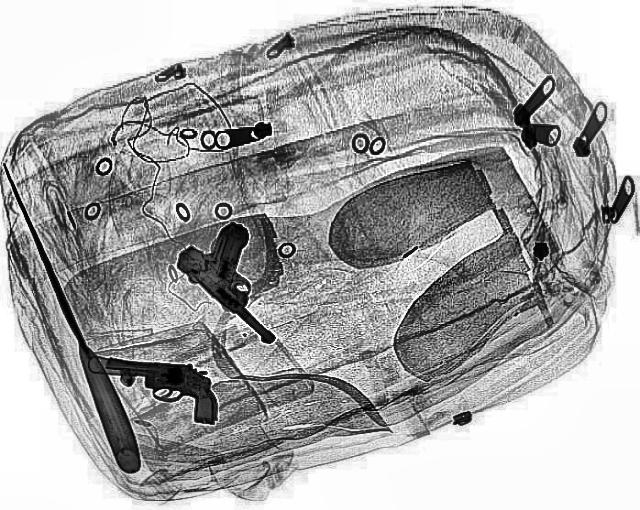Gun: (168, 219, 332, 344), (78, 354, 228, 424)
Knife: (0, 180, 146, 474)
